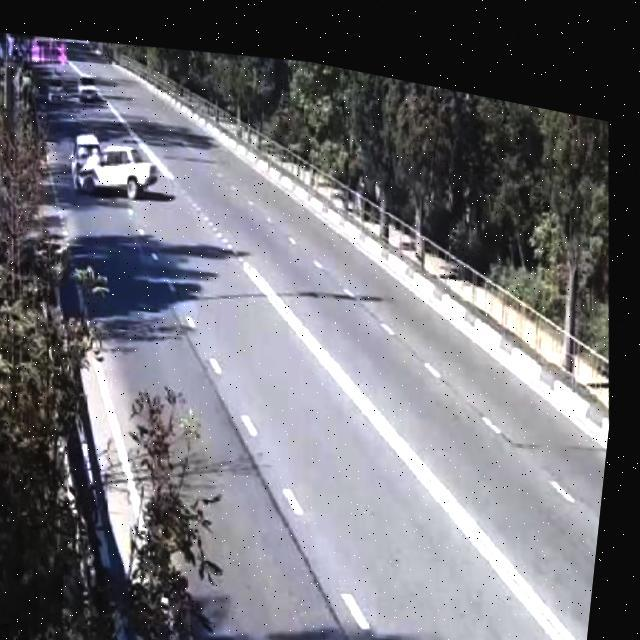Car Accident Detector - v4 Generation1 Exported: (63, 115, 169, 212)
